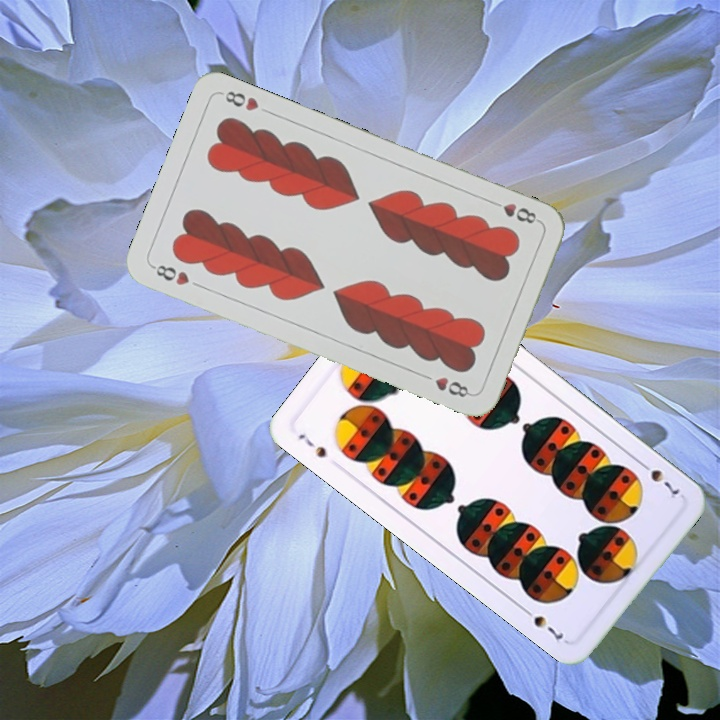H8: (486, 196, 543, 227), (148, 260, 192, 288)
S7: (635, 457, 681, 501), (294, 429, 329, 461)
